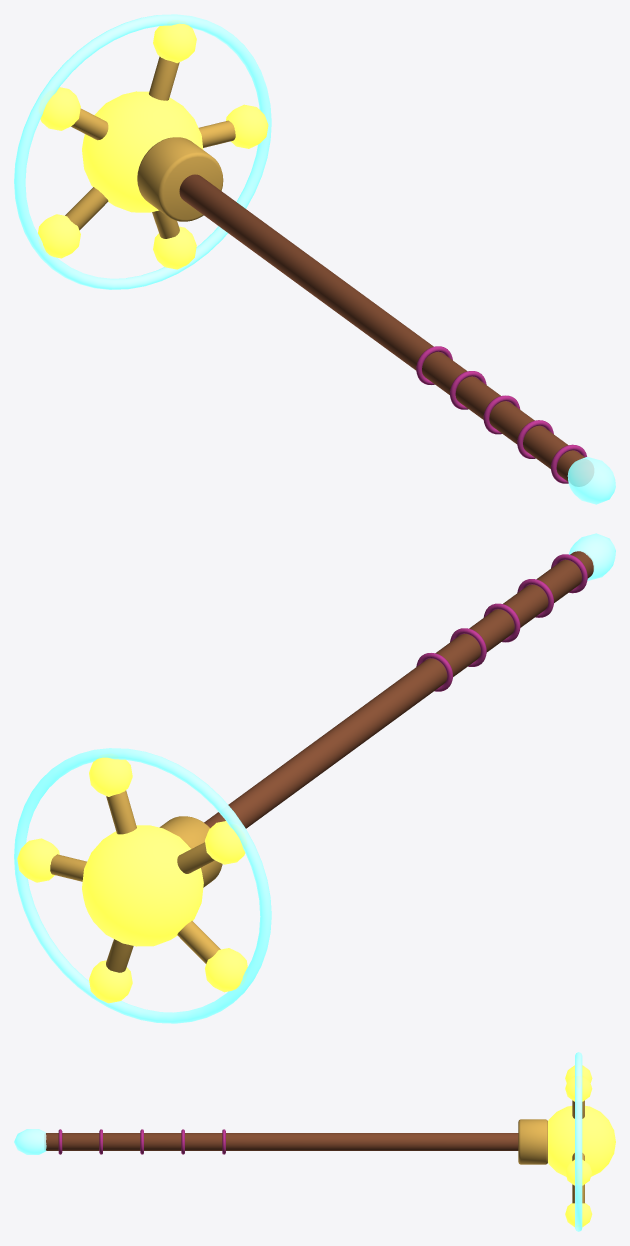
Rendered from fantasy_magic_wand_staff.glb.
3 renders of one model, top to bottom at view 1: azimuth 30°, elevation 25°; view 2: azimuth 150°, elevation 25°; view 3: azimuth 270°, elevation 25°, orthographic. The views are drawn at different scales.
Parts seen in each view (by area): view 1: Wand_Handle, Wand_OrbitRing, Wand_StarCore, Wand_CrownCollar, Wand_PommelGem, Wand_StarTip_4, Wand_StarTip_2, Wand_StarTip_1, Wand_StarTip_5, Wand_StarTip_3, Wand_StarRay_4, Wand_StarRay_2 (+2 smaller); view 2: Wand_Handle, Wand_StarCore, Wand_OrbitRing, Wand_StarTip_4, Wand_StarTip_2, Wand_StarTip_1, Wand_CrownCollar, Wand_StarTip_5, Wand_StarTip_3, Wand_PommelGem, Wand_StarRay_4, Wand_StarRay_2 (+2 smaller); view 3: Wand_Handle, Wand_StarCore, Wand_OrbitRing, Wand_CrownCollar, Wand_PommelGem, Wand_StarTip_2, Wand_StarTip_1, Wand_StarTip_5.
Part boxes in pixels (x1,y1,x2,y2): Wand_Handle: [179, 174, 584, 481]; Wand_OrbitRing: [14, 14, 271, 289]; Wand_StarCore: [82, 91, 203, 212]; Wand_CrownCollar: [137, 137, 223, 221]; Wand_PommelGem: [567, 457, 615, 504]; Wand_StarTip_4: [38, 214, 80, 258]; Wand_StarTip_2: [153, 23, 196, 63]; Wand_StarTip_1: [226, 104, 268, 148]; Wand_StarTip_5: [153, 226, 196, 269]; Wand_StarTip_3: [40, 87, 80, 130]; Wand_StarRay_4: [65, 187, 108, 230]; Wand_StarRay_2: [149, 56, 179, 100]; Wand_Handle: [204, 551, 593, 828]; Wand_StarCore: [82, 825, 203, 946]; Wand_OrbitRing: [14, 748, 271, 1023]; Wand_StarTip_4: [205, 948, 247, 992]; Wand_StarTip_2: [89, 757, 132, 796]; Wand_StarTip_1: [17, 838, 59, 882]; Wand_CrownCollar: [159, 816, 222, 887]; Wand_StarTip_5: [89, 960, 132, 1003]; Wand_StarTip_3: [205, 821, 245, 864]; Wand_PommelGem: [569, 533, 615, 580]; Wand_StarRay_4: [177, 921, 220, 963]; Wand_StarRay_2: [106, 790, 136, 834]; Wand_Handle: [46, 1133, 518, 1150]; Wand_StarCore: [548, 1105, 615, 1176]; Wand_OrbitRing: [575, 1052, 582, 1231]; Wand_CrownCollar: [518, 1119, 547, 1164]; Wand_PommelGem: [14, 1129, 46, 1154]; Wand_StarTip_2: [565, 1075, 592, 1101]; Wand_StarTip_1: [565, 1159, 592, 1185]; Wand_StarTip_5: [565, 1203, 592, 1227].
Size of the model in its own units: 0.396 by 0.396 by 1.32.
